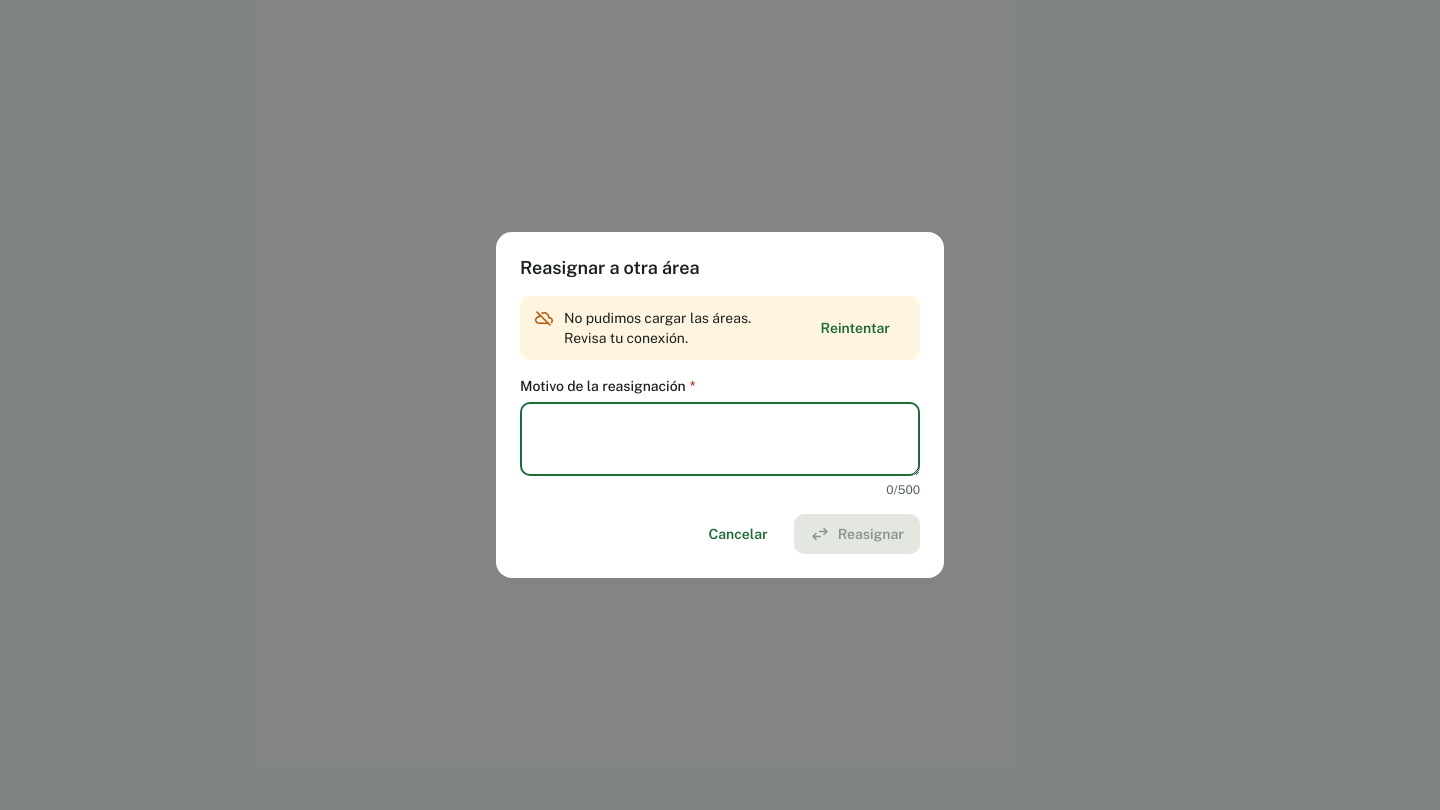
Test case: Hoja 17 · Reasignar a otra área (RF-17 / CU-17) › si las áreas no cargan, lo dice y deja reintentar
Check: the message shows "No pudimos cargar las áreas. Revisa tu conexión.", box [564, 310, 751, 346]
Step 1. Type "No es de Sistemas" into the text box labelled "Motivo de la reasignación" → [720, 439], box [520, 402, 920, 476]
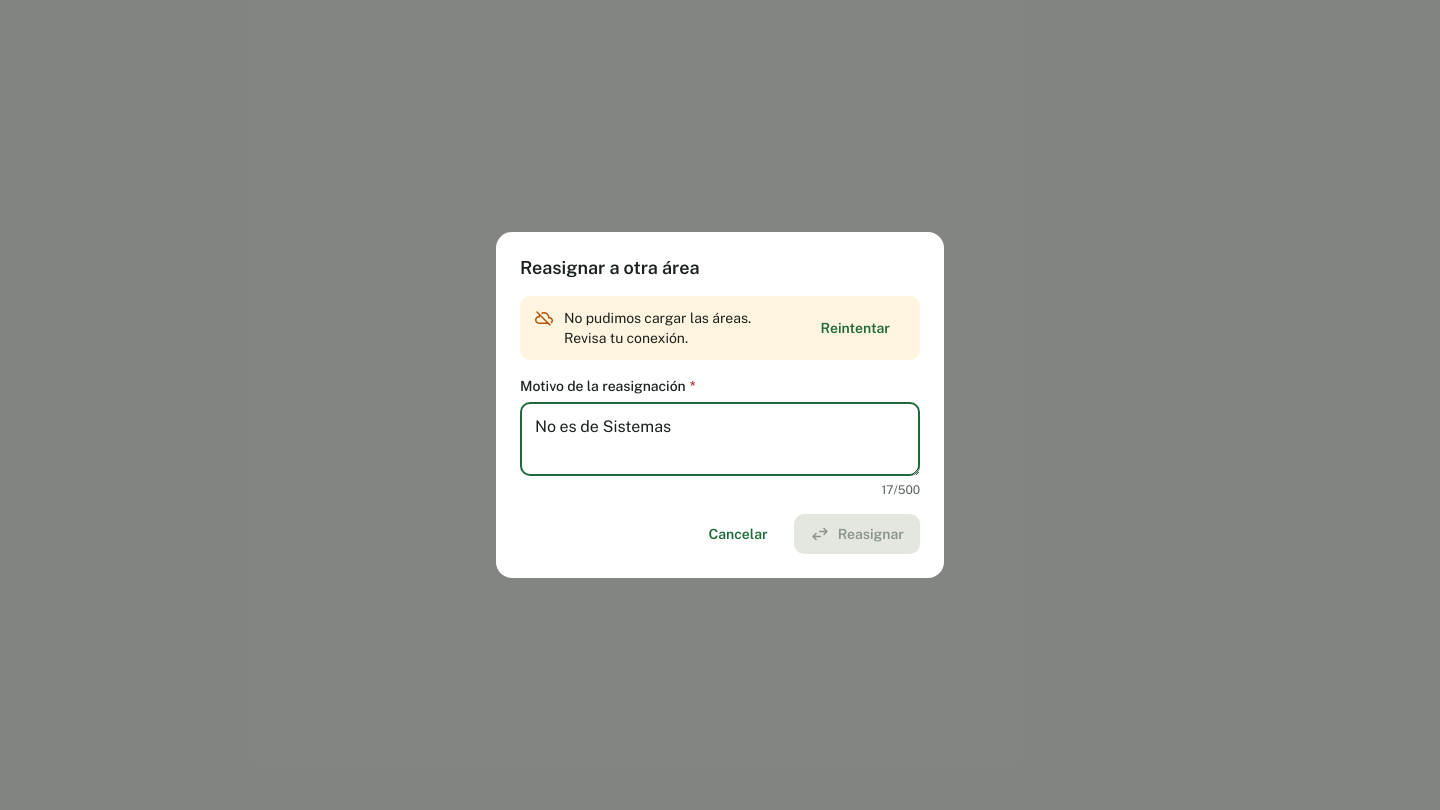
Check: the button "Reasignar" is disabled, box [794, 514, 920, 554]
Step 2. Click the button "Reintentar" → [855, 328], box [804, 308, 906, 348]
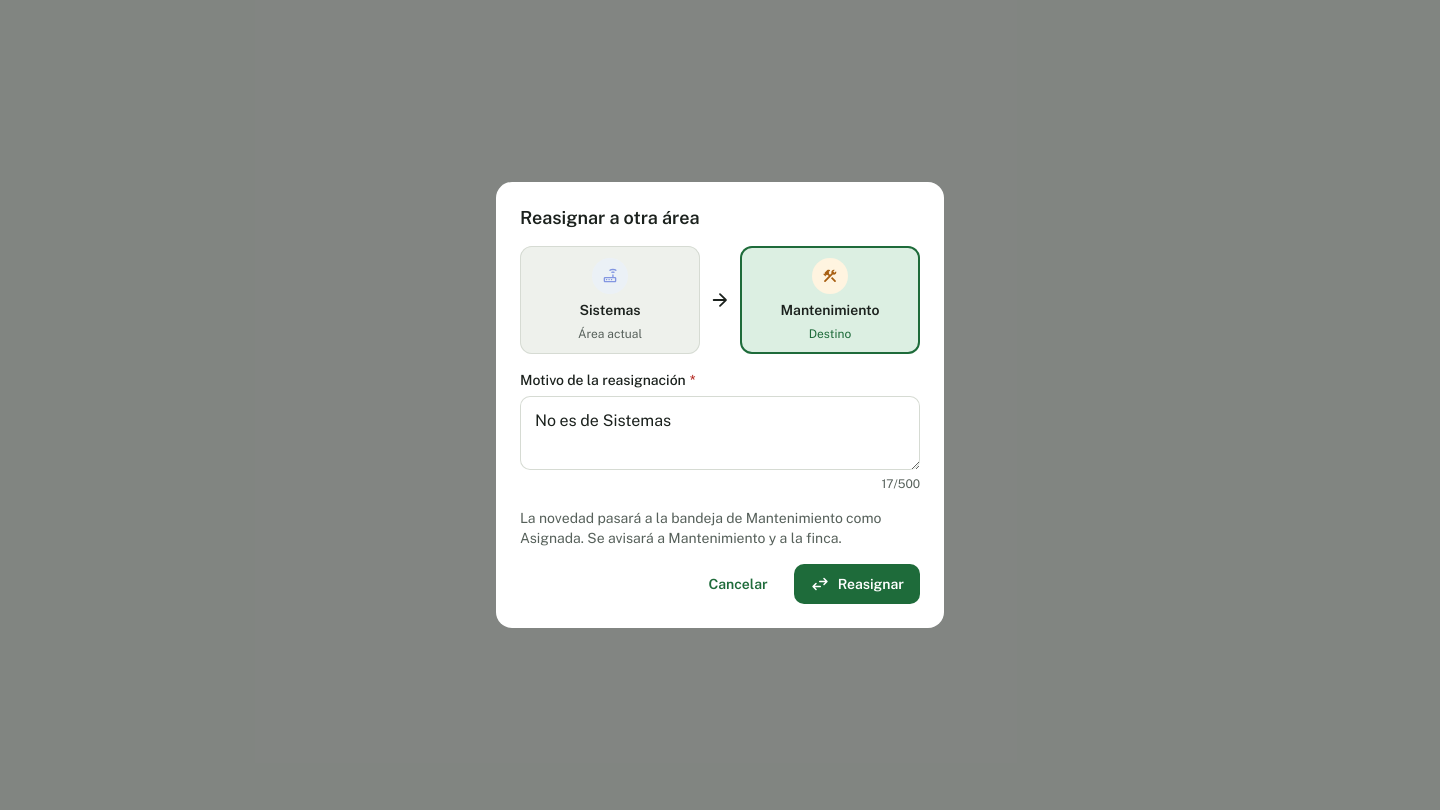
Check: the message "No pudimos cargar las áreas. Revisa tu conexión. Reintentar" is gone
Check: the button "Reasignar" is enabled, box [794, 564, 920, 604]
